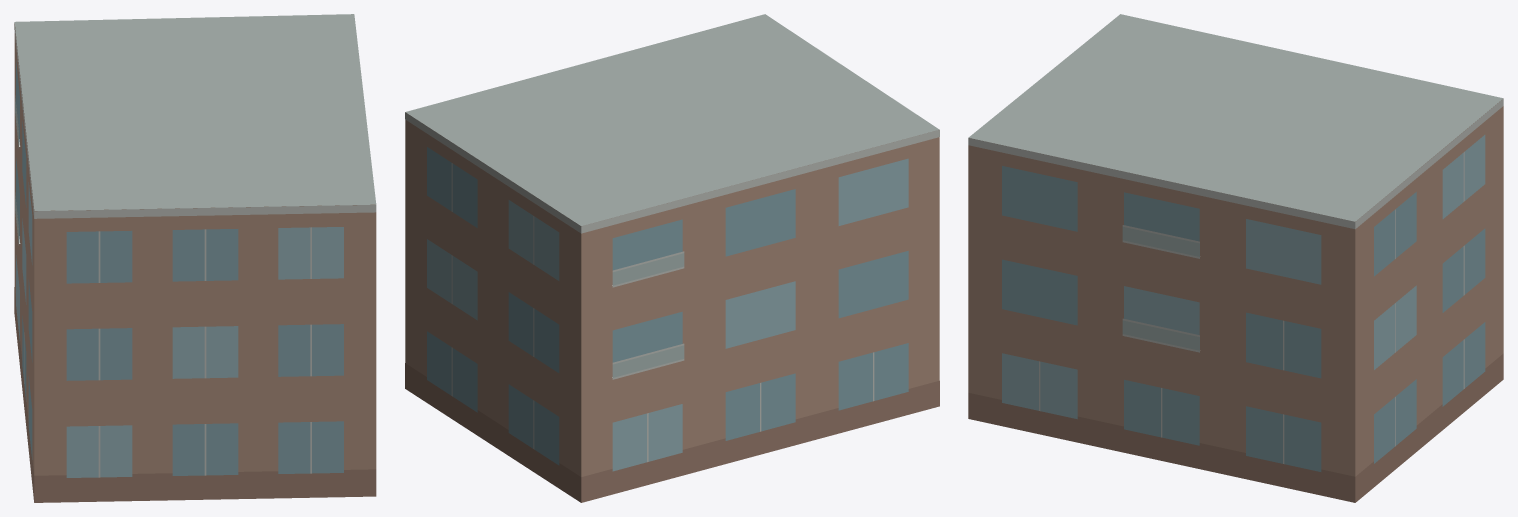
File: survey-upis-32874589.glb
3 views of the same model, side by side, from view 1: azimuth 30°, elevation 25°; view 2: azimuth 150°, elevation 25°; view 3: azimuth 270°, elevation 25° (orthographic). The views are drawn at different scales.
Parts seen in each view (by area): view 1: survey-upis-32874589.tmp; view 2: survey-upis-32874589.tmp; view 3: survey-upis-32874589.tmp.
Boxes of the visible parts, <box> form: survey-upis-32874589.tmp: <box>14,14,376,502</box>; survey-upis-32874589.tmp: <box>405,14,939,502</box>; survey-upis-32874589.tmp: <box>968,14,1503,502</box>.
Bounding box in the file's own units: 14.51 × 9.15 × 15.8.
